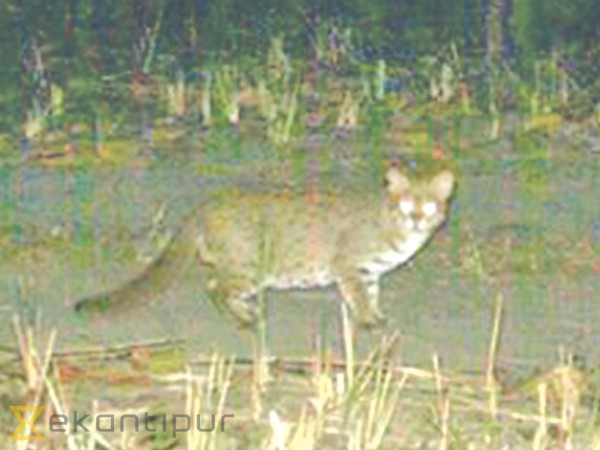cat: (59, 161, 490, 340)
